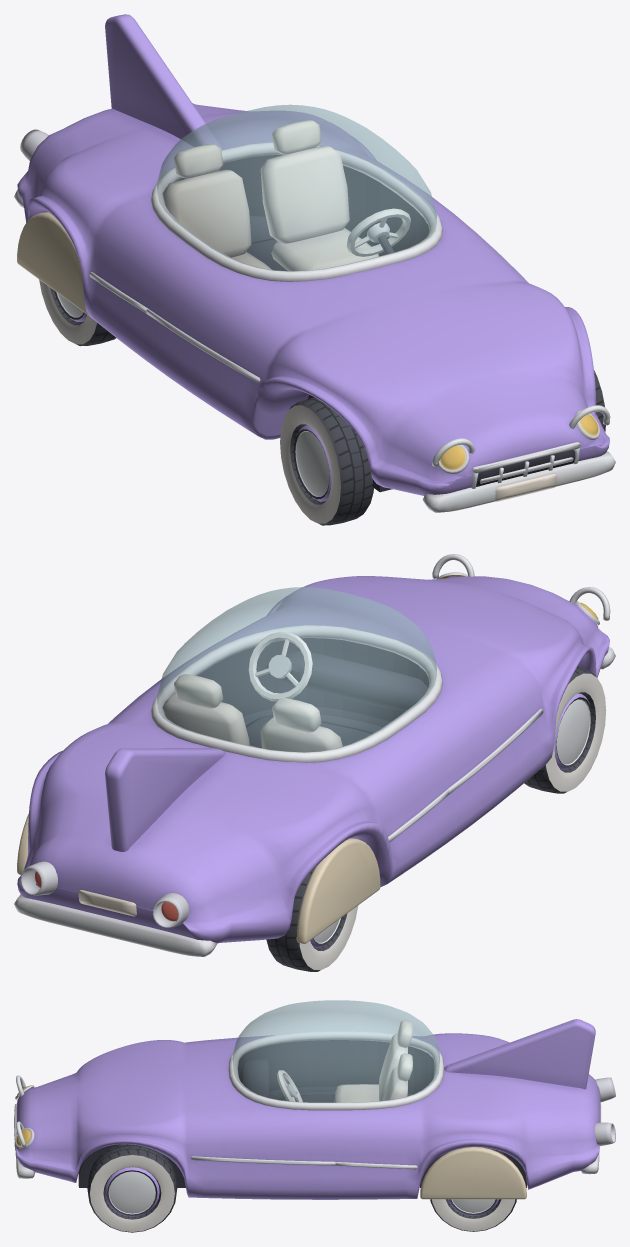
File: atomic-age-car.glb
The picture shows the model from 3 angles, top to bottom: view 1: azimuth 30°, elevation 25°; view 2: azimuth 150°, elevation 25°; view 3: azimuth 270°, elevation 25°; orthographic projection. The views are drawn at different scales.
Parts seen in each view (by area): view 1: atomic-age-car_body, atomic-age-car_windows, atomic-age-car_wheel_fr, atomic-age-car_wheel_rr; view 2: atomic-age-car_body, atomic-age-car_windows, atomic-age-car_wheel_fr, atomic-age-car_wheel_rr; view 3: atomic-age-car_body, atomic-age-car_windows, atomic-age-car_wheel_fl, atomic-age-car_wheel_rl.
Boxes of the visible parts, x1,y1,x2,y2 form: atomic-age-car_body: (14, 14, 615, 512); atomic-age-car_windows: (157, 104, 436, 271); atomic-age-car_wheel_fr: (280, 397, 373, 525); atomic-age-car_wheel_rr: (39, 279, 115, 346); atomic-age-car_body: (14, 554, 615, 956); atomic-age-car_windows: (157, 587, 436, 752); atomic-age-car_wheel_fr: (524, 667, 606, 793); atomic-age-car_wheel_rr: (266, 868, 358, 971); atomic-age-car_body: (14, 1019, 615, 1199); atomic-age-car_windows: (232, 1000, 439, 1102); atomic-age-car_wheel_fl: (87, 1144, 177, 1232); atomic-age-car_wheel_rl: (430, 1147, 516, 1231).
Size of the model in its own units: 1.86 by 1.44 by 4.41.
Materials: 22 (5 with a texture image).
